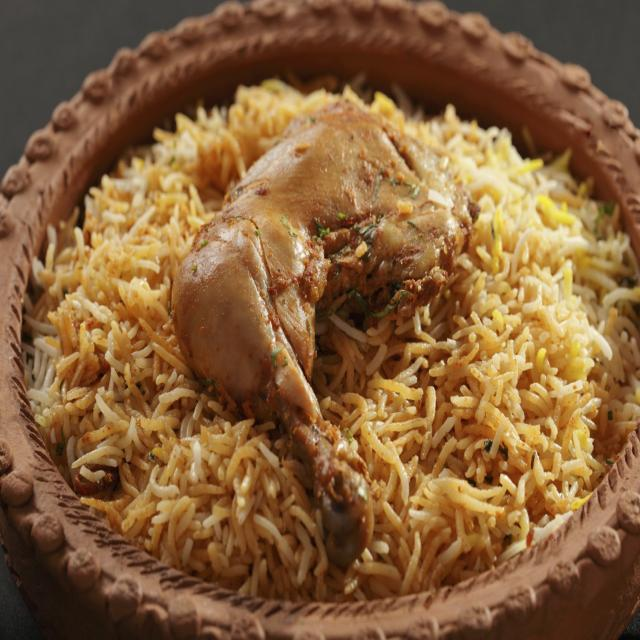Biryani: (23, 65, 640, 601)
